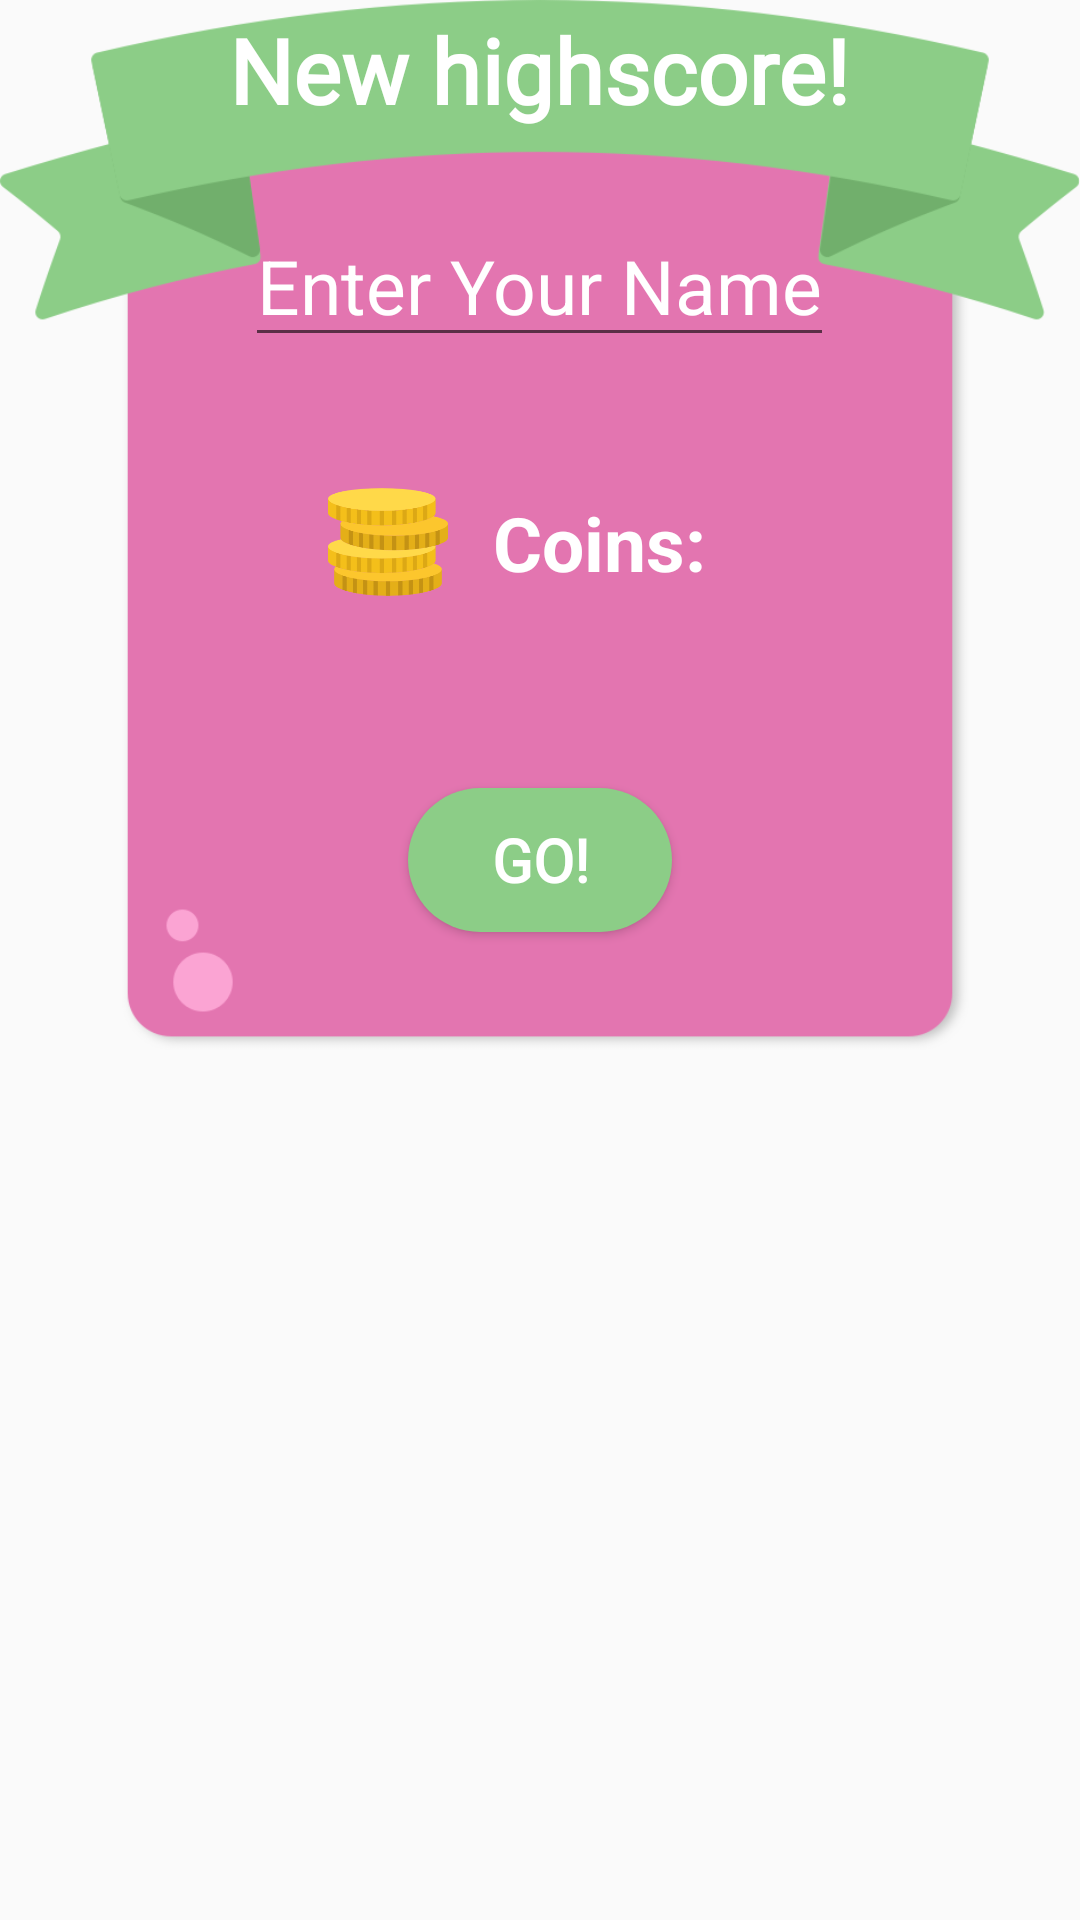

Icon click points for this 1080 × 1920 phone screenshot, format (x=x, y=y):
score: (x=388, y=542)
